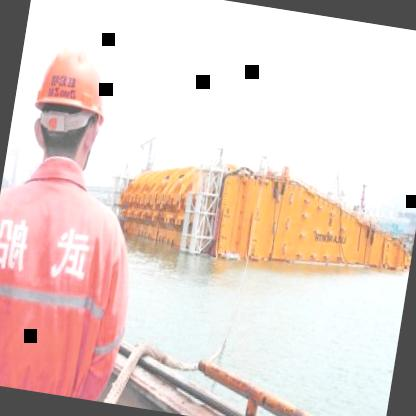helmet: (9, 8, 129, 189)
